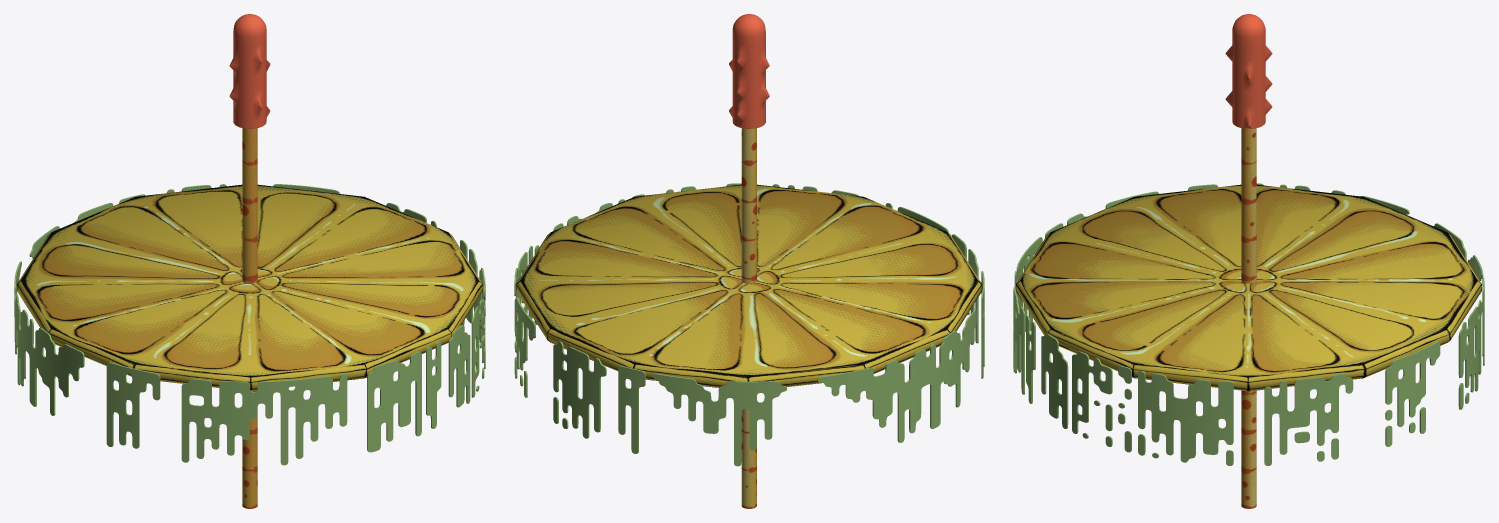
File: Leaf_Platform_Yellow_30m.fbx
The picture shows the model from 3 angles, left to right: view 1: azimuth 30°, elevation 25°; view 2: azimuth 150°, elevation 25°; view 3: azimuth 270°, elevation 25°; orthographic projection.
Parts seen in each view (by area): view 1: Platform_Yellow, Moss, LightTop, Pole; view 2: Platform_Yellow, Moss, LightTop, Pole; view 3: Platform_Yellow, Moss, Pole, LightTop.
Boxes of the visible parts, x1=… form: Platform_Yellow: x1=17, y1=184, x2=482, y2=391; Moss: x1=14, y1=184, x2=485, y2=465; LightTop: x1=229, y1=14, x2=270, y2=128; Pole: x1=242, y1=128, x2=257, y2=508; Platform_Yellow: x1=516, y1=184, x2=982, y2=387; Moss: x1=514, y1=183, x2=984, y2=466; LightTop: x1=729, y1=14, x2=769, y2=128; Pole: x1=741, y1=128, x2=756, y2=508; Platform_Yellow: x1=1016, y1=184, x2=1481, y2=391; Moss: x1=1013, y1=183, x2=1484, y2=465; Pole: x1=1241, y1=128, x2=1256, y2=508; LightTop: x1=1225, y1=14, x2=1272, y2=128.
Size of the model in its own units: 3031 by 3034 by 3482.
